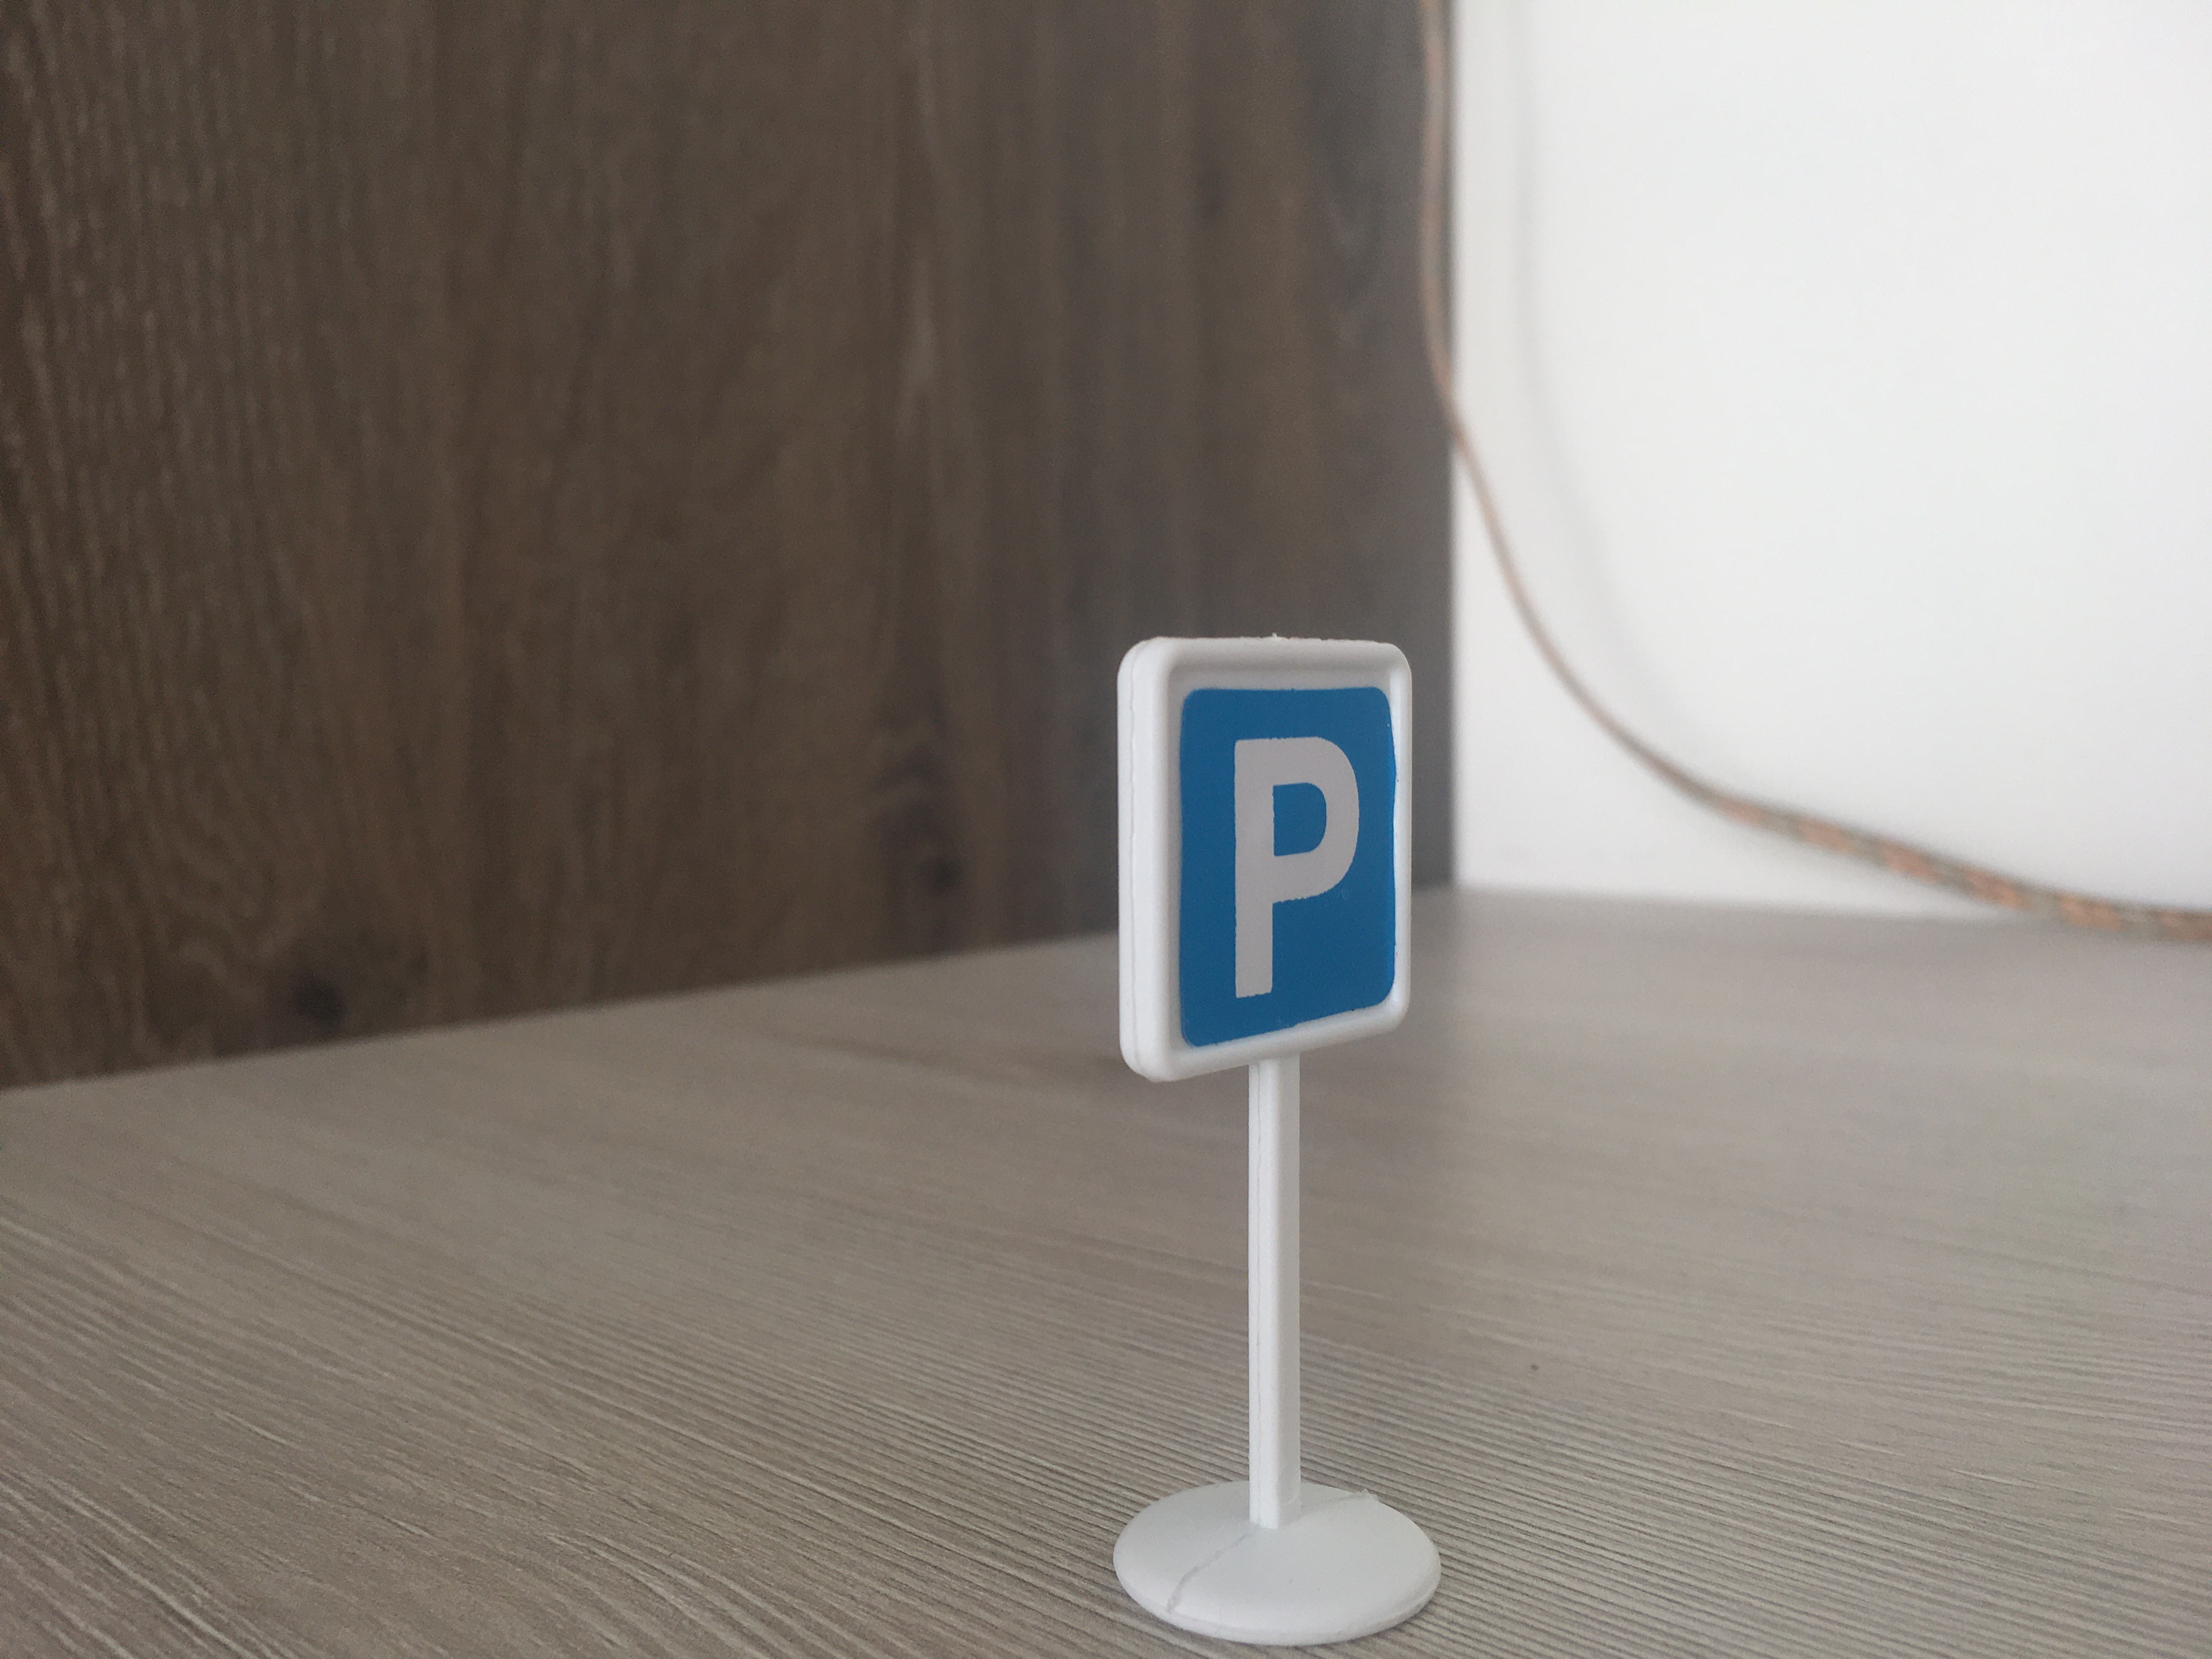parking: (1118, 636, 1418, 1087)
